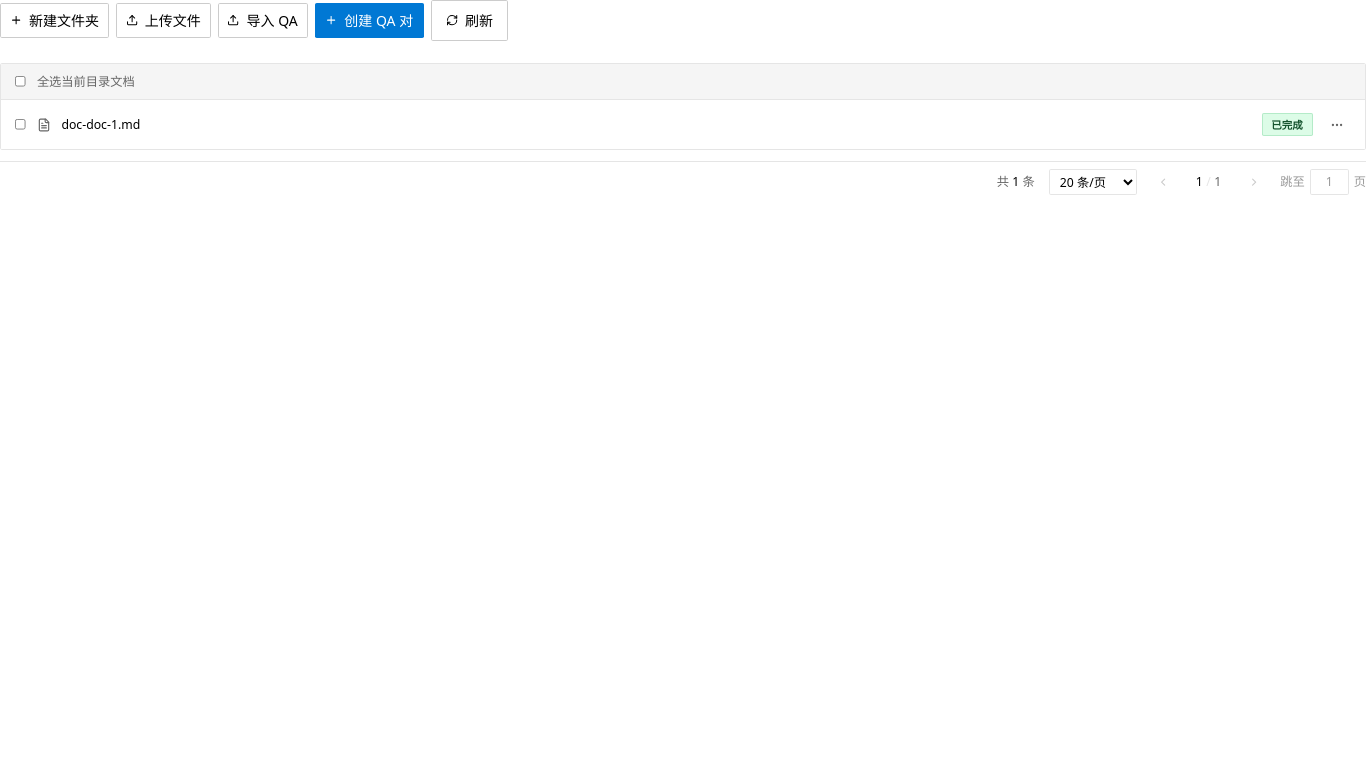
Test: KbDocumentsTab › keeps the detail drawer synced with the latest list item state
The image size is (1366, 768).
Click the button "doc-doc-1.md": [101, 124] box left=37, top=116, right=1251, bottom=134
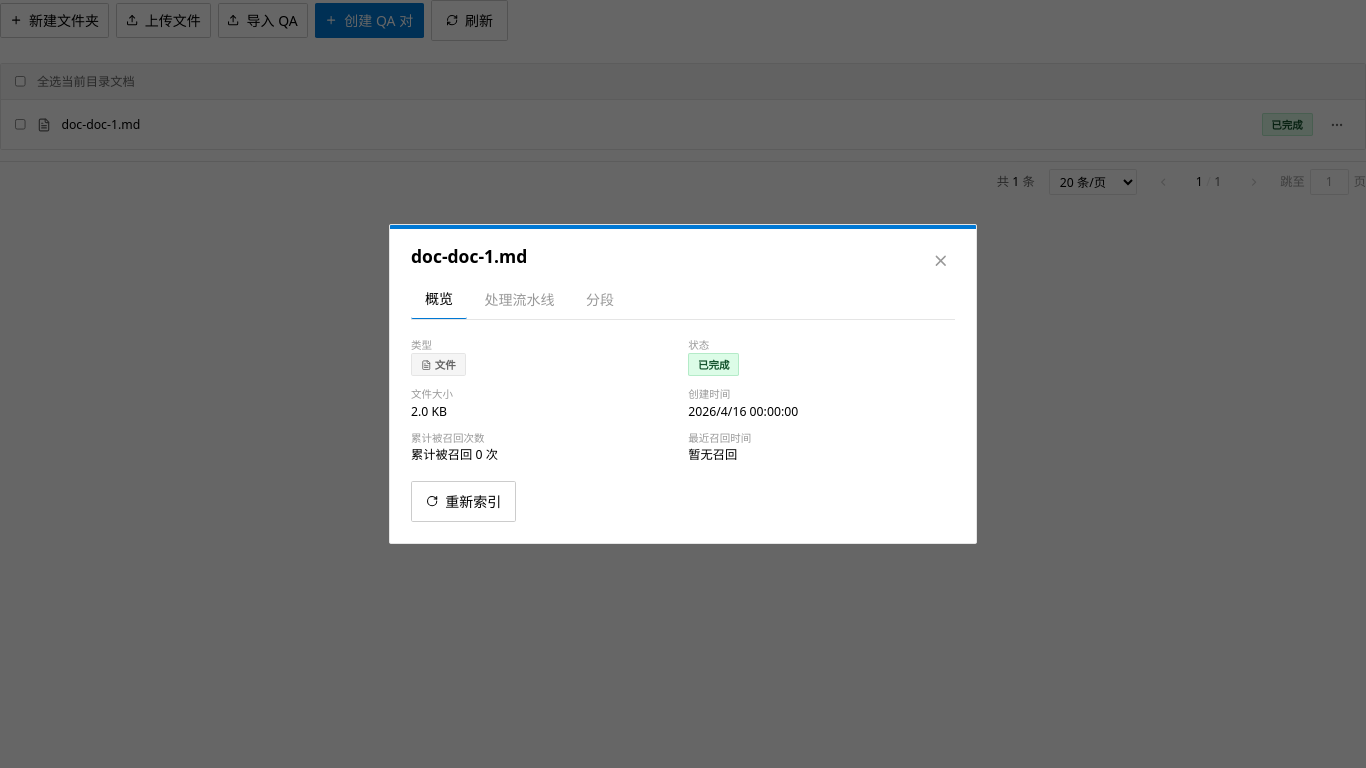
Expected: the heading "doc-doc-1.md" is shown, left=411, top=244, right=527, bottom=268
Expected: the text "已完成" is shown 2 times, left=1262, top=113, right=1312, bottom=136; left=688, top=353, right=739, bottom=376
